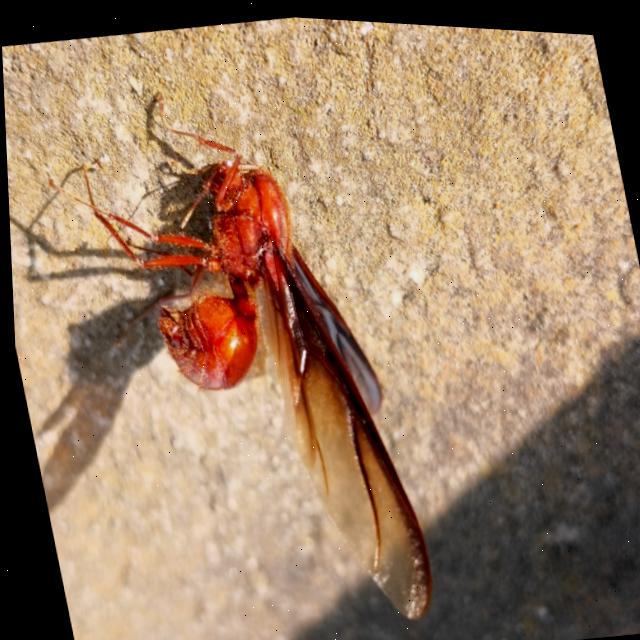Dead-Male-Alate: (29, 55, 436, 640)
